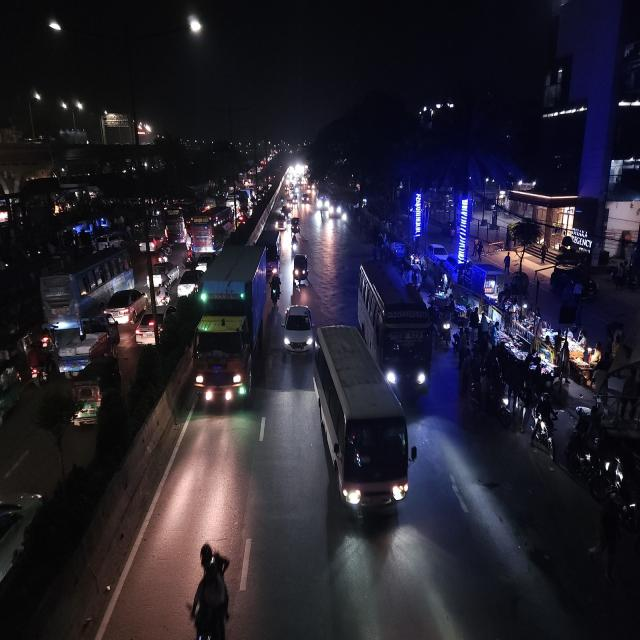bus: (313, 320, 414, 524), (355, 256, 436, 402), (40, 244, 134, 319), (188, 205, 234, 256), (163, 207, 186, 244), (327, 195, 343, 220), (316, 189, 328, 210)
car: (69, 356, 123, 432), (58, 315, 121, 365), (283, 302, 315, 359), (102, 286, 150, 324), (133, 308, 168, 348), (146, 261, 176, 288), (176, 268, 199, 299), (426, 240, 448, 265), (194, 252, 215, 273), (272, 210, 288, 232), (290, 216, 302, 236)
cng: (68, 355, 122, 432), (292, 251, 310, 288)
motorcycle: (530, 399, 559, 466), (587, 463, 623, 512), (564, 429, 594, 479), (27, 346, 53, 388), (269, 272, 282, 308), (156, 281, 172, 309), (157, 245, 171, 264)
truck: (192, 243, 268, 409)
